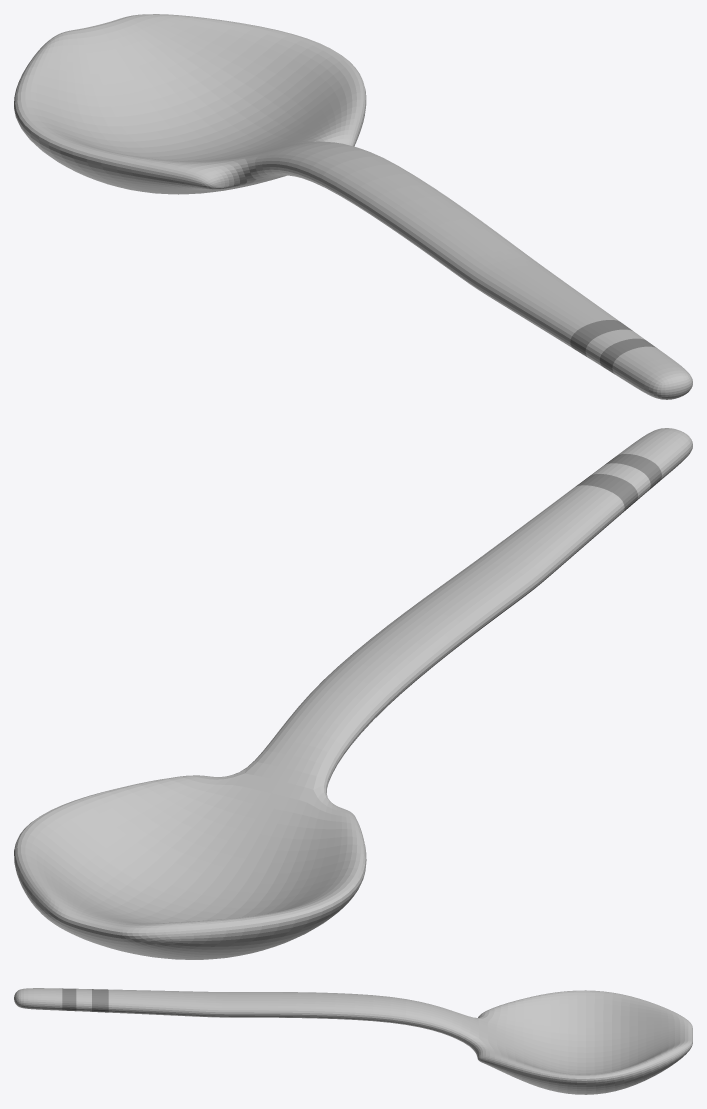
The model's file is Res01_Spoon1.fbx.
3 renders of one model, top to bottom at view 1: azimuth 30°, elevation 25°; view 2: azimuth 150°, elevation 25°; view 3: azimuth 270°, elevation 25°, orthographic. The views are drawn at different scales.
Parts seen in each view (by area): view 1: Res01_Spoon1; view 2: Res01_Spoon1; view 3: Res01_Spoon1.
Boxes of the visible parts, <box> form: Res01_Spoon1: <box>14,14,692,399</box>; Res01_Spoon1: <box>14,428,692,959</box>; Res01_Spoon1: <box>14,988,692,1094</box>.
Bounding box in the file's own units: 17.77 × 8.27 × 57.64.
